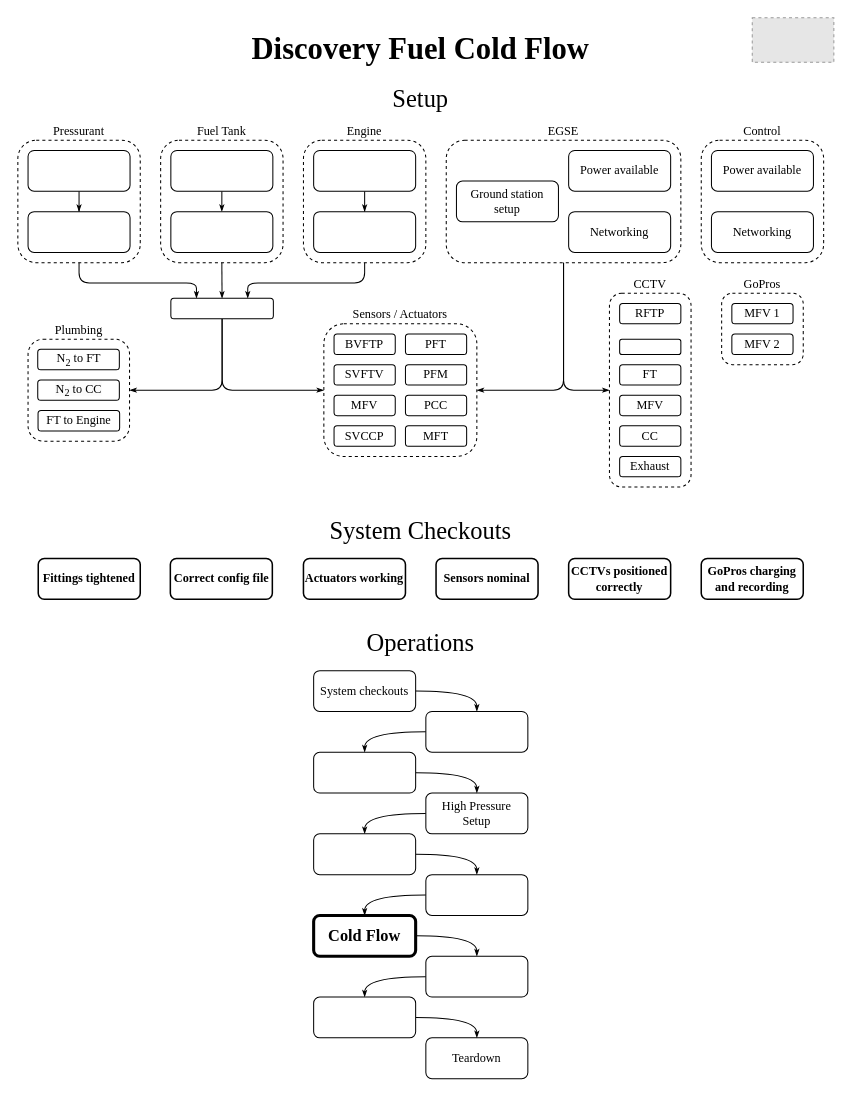
Image size: 852x1097. Some labels were removed from this diagram. Grey dashed boxes stand in for pictures. The centre of each missing label's shape, as x and y in pixels:
"Data Saved" belongs at pixel 364 1017.
"Engine carriage mounted" belongs at pixel 364 170.
"Engine mounted" belongs at pixel 364 231.
"Fuel tank filled" belongs at pixel 221 170.
"Fuel tank mounted" belongs at pixel 221 231.
"Low Pressure Leak Checks" belongs at pixel 476 731.
"Low Pressure Setup" belongs at pixel 364 772.
"Propulsion set-up" belongs at pixel 221 308.
"RCCP" belongs at pixel 650 346.
"Regulator mount attached" belongs at pixel 78 231.
"Remote Operations Begun" belongs at pixel 476 894.
"Supply N 2 mounted" belongs at pixel 78 170.
"System Safed" belongs at pixel 476 976.
"Test Stand Evacuated" belongs at pixel 364 854.
